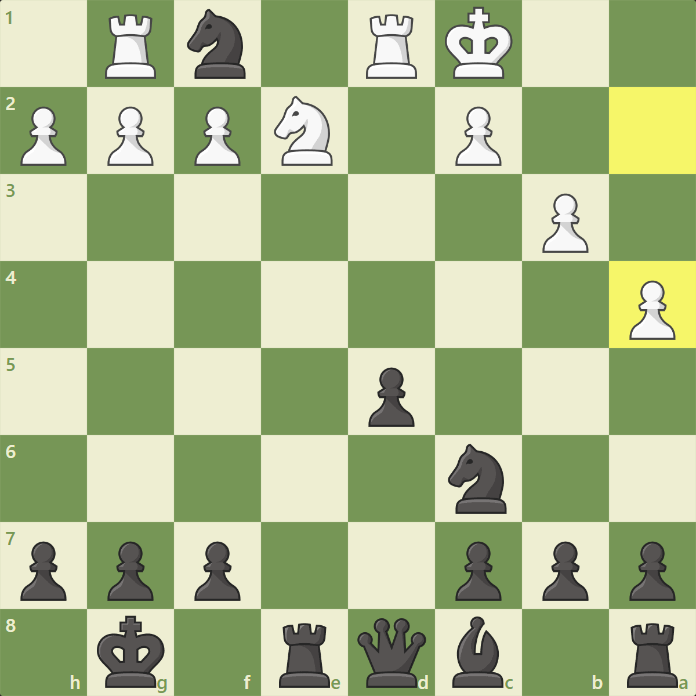K: (442, 5, 514, 81)
N: (273, 94, 334, 168)
P: (628, 278, 676, 343), (540, 191, 588, 256), (453, 103, 501, 168), (192, 103, 240, 168), (106, 102, 154, 167), (18, 102, 66, 167)
R: (103, 12, 158, 81), (364, 11, 418, 81)
b: (449, 615, 505, 692)
k: (94, 614, 167, 692)
n: (184, 7, 249, 82), (447, 442, 508, 517)
p: (18, 539, 69, 604), (104, 539, 155, 604), (190, 540, 241, 605), (452, 538, 503, 603), (539, 539, 590, 604), (626, 538, 677, 603), (365, 367, 416, 432)
q: (356, 616, 428, 692)
r: (625, 620, 682, 691), (277, 622, 332, 691)
